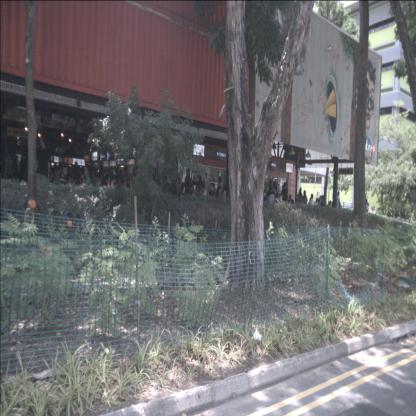human-pedestrian-adult: (36, 133, 50, 207), (59, 165, 74, 213), (81, 165, 92, 212), (4, 146, 12, 197), (184, 168, 192, 216), (198, 181, 208, 218), (178, 182, 188, 218), (207, 182, 216, 218), (97, 163, 105, 203), (19, 152, 28, 186), (281, 182, 289, 220), (96, 172, 104, 210), (197, 176, 203, 216), (73, 161, 81, 189), (301, 191, 308, 222), (215, 186, 222, 216), (273, 192, 280, 221), (217, 176, 223, 209), (108, 166, 114, 199), (335, 191, 341, 224), (262, 188, 268, 221), (108, 179, 115, 207), (221, 184, 227, 215), (320, 195, 327, 221), (308, 194, 315, 220), (297, 187, 303, 217), (279, 191, 285, 220), (269, 191, 275, 219), (50, 166, 56, 193), (104, 173, 110, 200), (288, 194, 294, 220), (89, 166, 95, 190), (316, 198, 322, 220), (314, 197, 319, 219), (14, 155, 18, 181), (327, 201, 332, 221)
